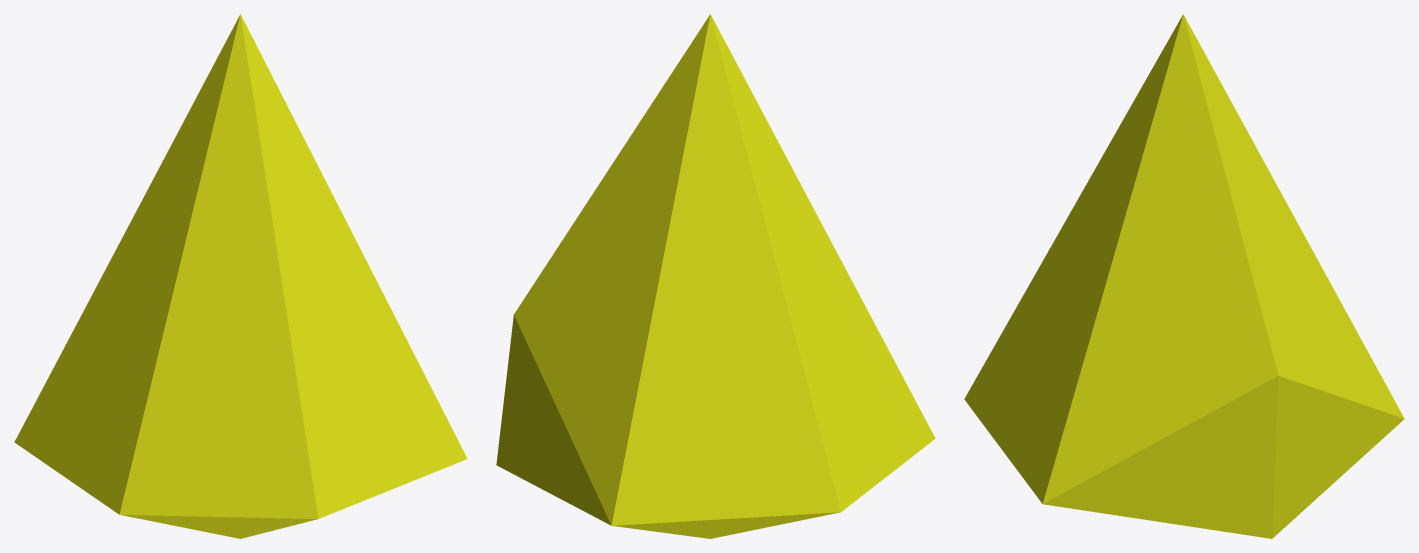
File: bullet.fbx
The picture shows the model from 3 angles, left to right: view 1: azimuth 30°, elevation 25°; view 2: azimuth 150°, elevation 25°; view 3: azimuth 270°, elevation 25°; orthographic projection. The views are drawn at different scales.
Parts seen in each view (by area): view 1: bullet; view 2: bullet; view 3: bullet.
Boxes of the visible parts, bbox=[...] form: bullet: bbox=[14, 14, 467, 538]; bullet: bbox=[496, 14, 935, 538]; bullet: bbox=[964, 14, 1404, 538].
Bounding box in the file's own units: 131 × 190 × 149.
